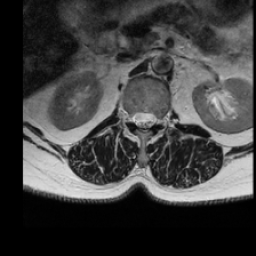CCS_normal: (140, 103, 147, 139)
LFS_normal: (155, 108, 162, 133)
LLS_normal: (147, 105, 155, 132)
RFS_normal: (125, 104, 133, 129)
RLS_normal: (132, 106, 140, 133)
